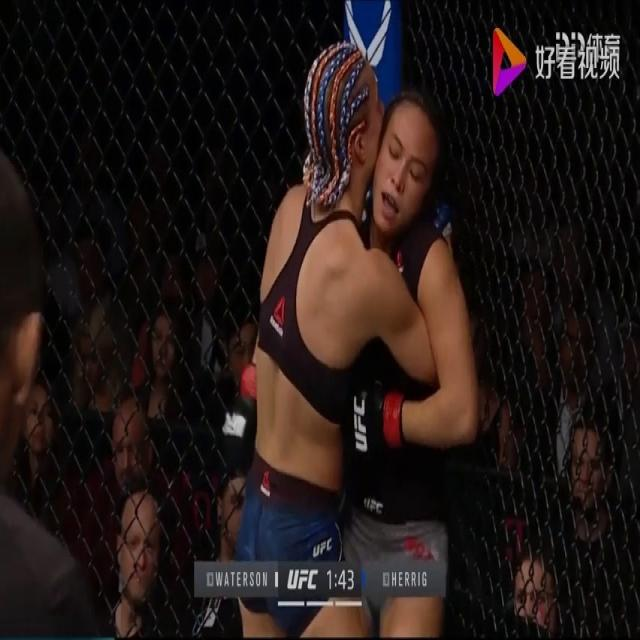fight: (213, 71, 493, 638)
